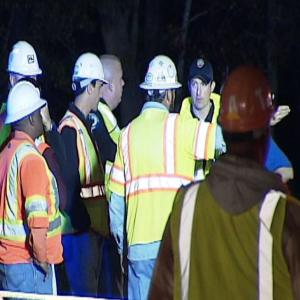none: (100, 52, 126, 111), (187, 59, 215, 111)
red: (218, 65, 274, 162)
white: (8, 82, 46, 142), (71, 54, 107, 111), (145, 55, 178, 110), (9, 42, 42, 87)
